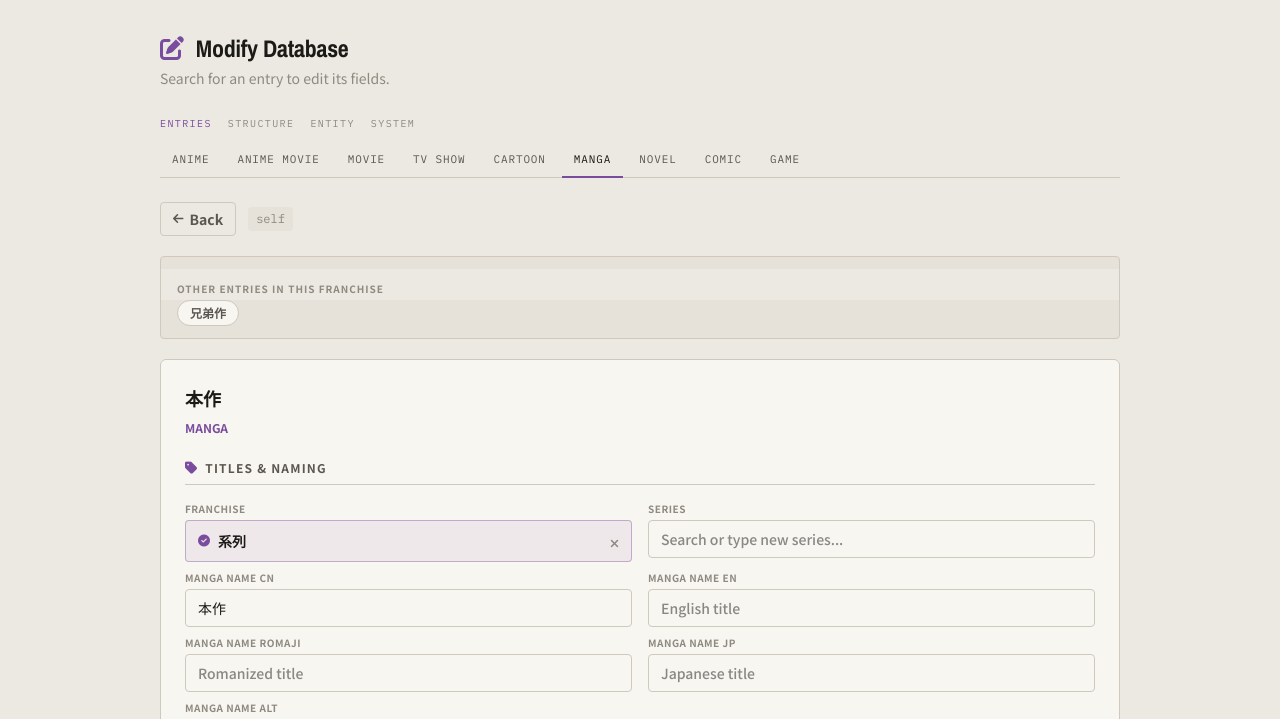
Modify franchise ribbon › opens the sibling's editor from its chip
Step 1. Click the button "兄弟作" → {"x": 208, "y": 312}, box [177,300,239,326]
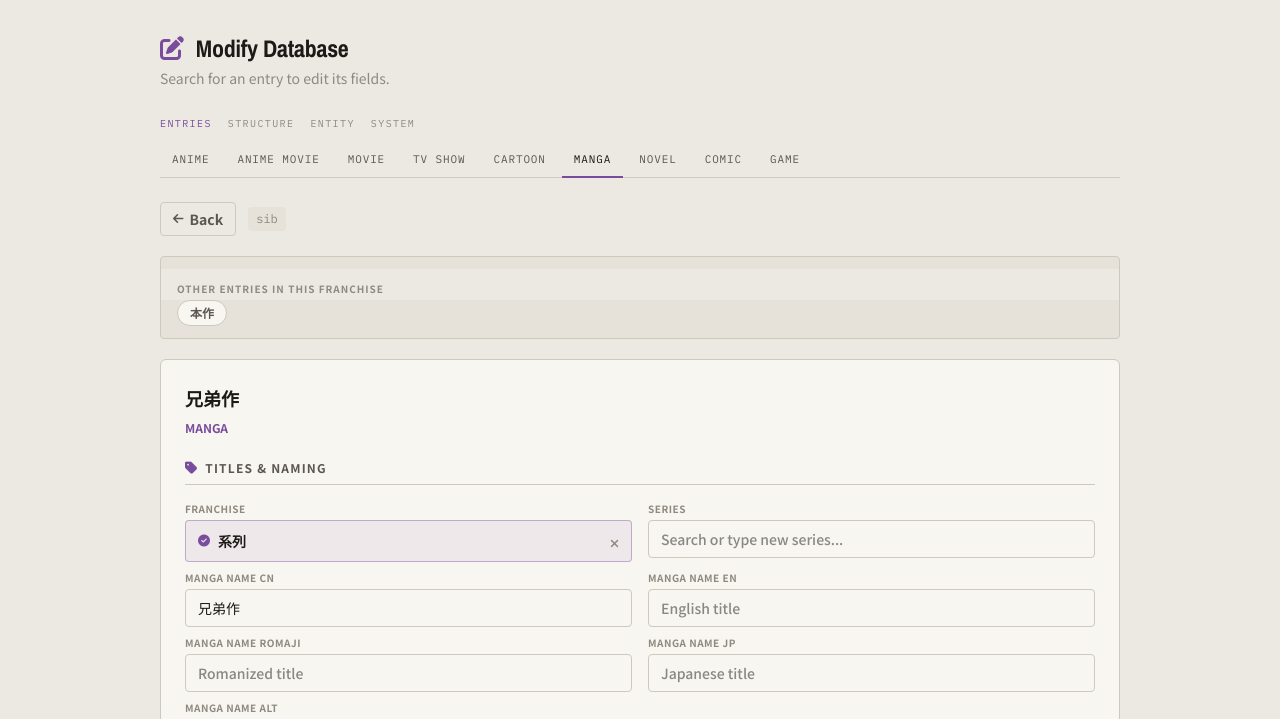
Expected: the text "sib" is shown, [248,206,286,230]
